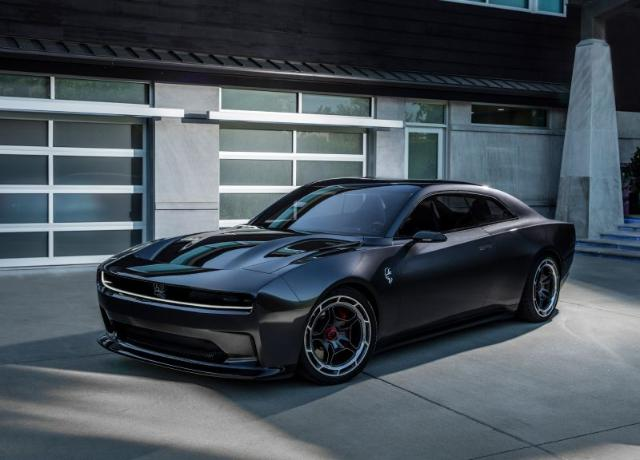dodge: (95, 176, 578, 384)
